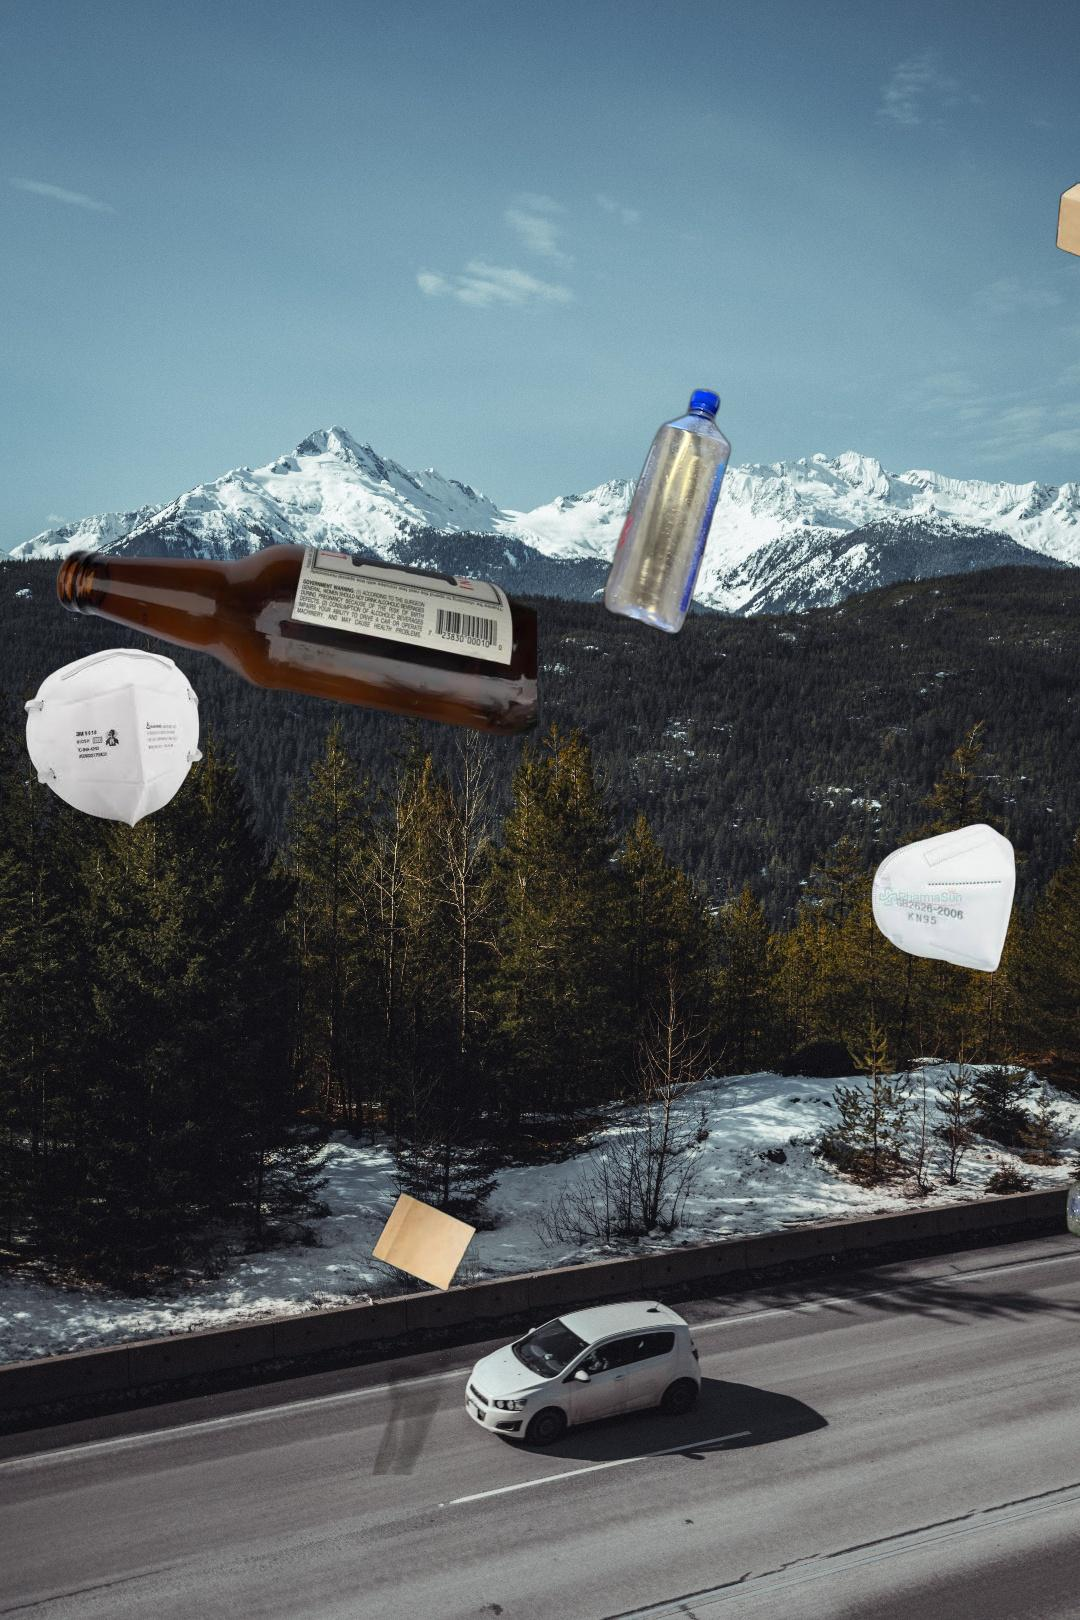glass: (52, 539, 537, 742)
paper-bag: (369, 1191, 534, 1475), (894, 158, 1080, 397)
plastic-bottles: (599, 383, 734, 640), (1062, 1171, 1080, 1256)
trash: (21, 644, 205, 828), (869, 821, 1019, 974)
